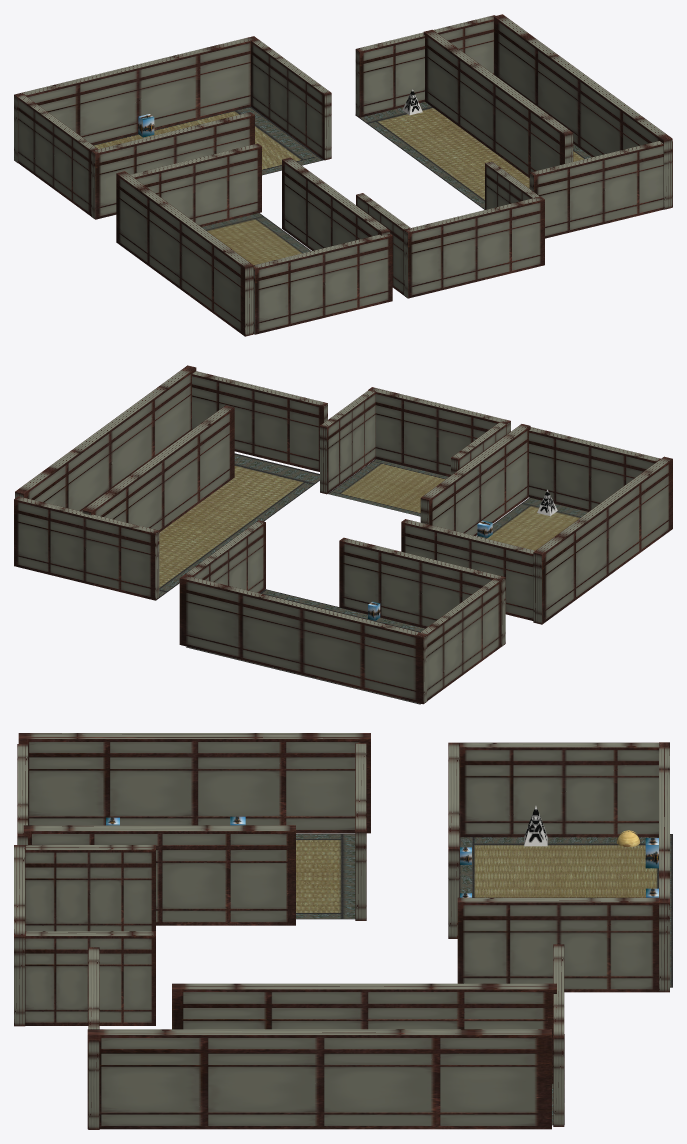
Rendered from Stage2two.fbx.
3 views of the same model, one above another, from view 1: azimuth 30°, elevation 25°; view 2: azimuth 150°, elevation 25°; view 3: azimuth 270°, elevation 25° (orthographic). The views are drawn at different scales.
Visible parts, largest first — view 1: Box (×18); view 2: Box (×19); view 3: Box (×18).
Part boxes in pixels (box(x1,y1,x2,y2)): Box (×18): box(14, 14, 672, 336); Box (×19): box(14, 365, 672, 704); Box (×18): box(14, 733, 672, 1129).
Size of the model in its own units: 1891 by 307 by 1742.
Materials: 5 (5 with a texture image).
